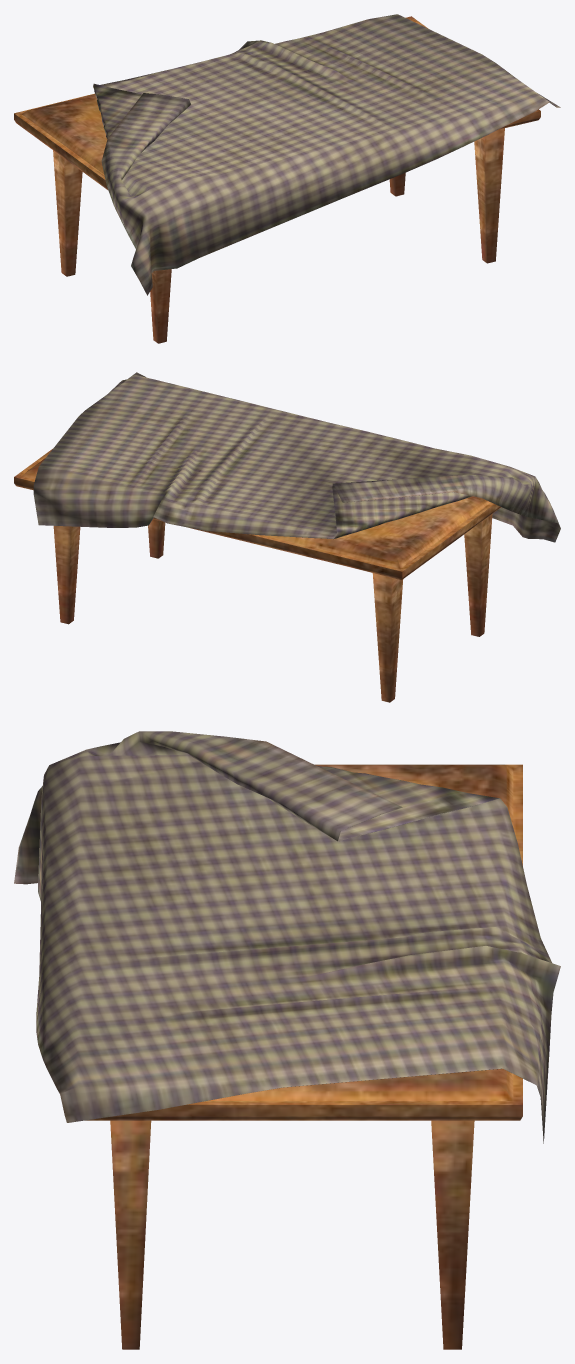
File: dining_table.glb
3 renders of one model, top to bottom at view 1: azimuth 30°, elevation 25°; view 2: azimuth 150°, elevation 25°; view 3: azimuth 270°, elevation 25°, orthographic. The views are drawn at different scales.
Visible parts, largest first — view 1: dining_table_cloth, dining_table; view 2: dining_table_cloth, dining_table; view 3: dining_table_cloth, dining_table.
Part boxes in pixels (<box>): dining_table_cloth: <box>93,14,560,295</box>; dining_table: <box>14,16,540,343</box>; dining_table_cloth: <box>33,372,560,542</box>; dining_table: <box>14,449,501,702</box>; dining_table_cloth: <box>14,731,560,1143</box>; dining_table: <box>85,764,522,1349</box>.
Size of the model in its own units: 2.26 by 0.877 by 1.39.
1 material, 1 textured.
